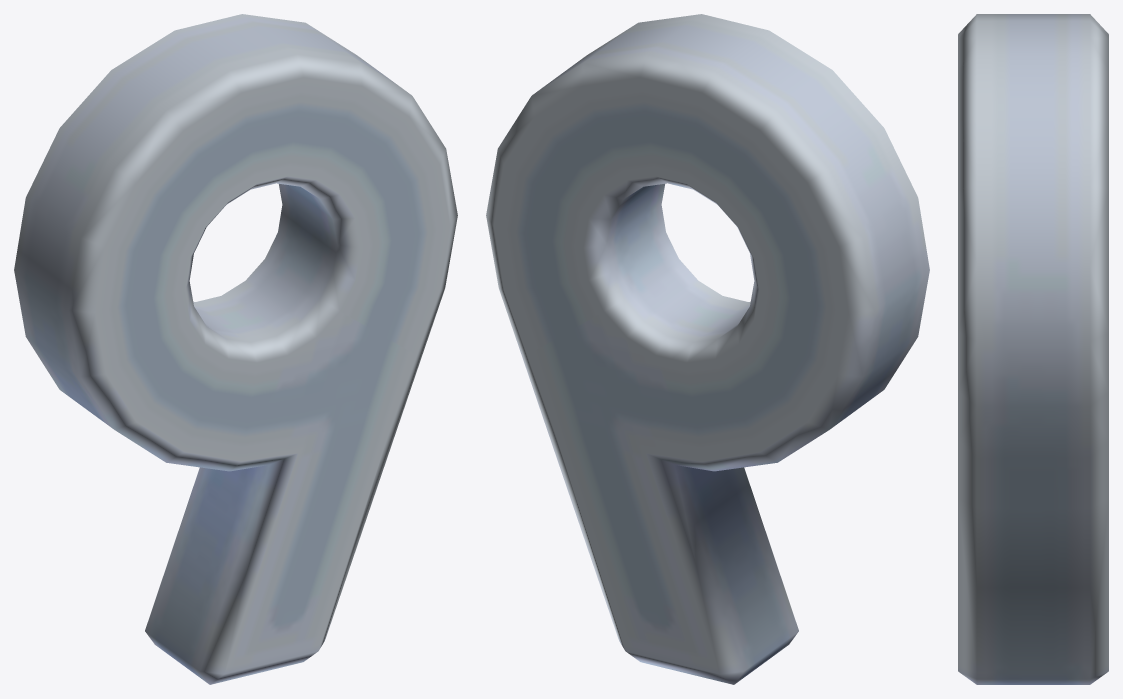
The model's file is rmk_nmb_9.dae.
The picture shows the model from 3 angles, left to right: view 1: azimuth 30°, elevation 25°; view 2: azimuth 150°, elevation 25°; view 3: azimuth 270°, elevation 25°; orthographic projection. The views are drawn at different scales.
Visible parts, largest first — view 1: rmk_nmb_9; view 2: rmk_nmb_9; view 3: rmk_nmb_9.
Boxes of the visible parts, bbox=[...] form: rmk_nmb_9: bbox=[14, 14, 457, 684]; rmk_nmb_9: bbox=[486, 14, 929, 684]; rmk_nmb_9: bbox=[958, 14, 1108, 684].
Bounding box in the file's own units: 19.9 × 29.8 × 6.5.
1 material, 1 textured.
